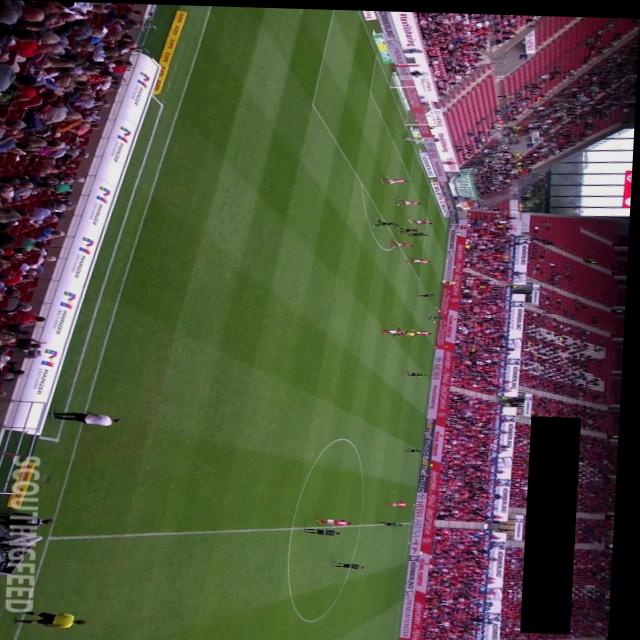goalkeeper: (404, 134, 427, 140)
player: (309, 526, 347, 535), (320, 516, 358, 525), (336, 559, 371, 568), (374, 216, 401, 225), (398, 195, 423, 204), (381, 176, 409, 183), (391, 497, 413, 505), (384, 326, 412, 332), (407, 255, 434, 261), (392, 238, 415, 245), (385, 519, 410, 525), (408, 229, 430, 235), (399, 225, 421, 231), (434, 304, 452, 311), (410, 217, 435, 222), (407, 369, 431, 374), (428, 312, 448, 318), (409, 445, 427, 451), (413, 328, 435, 332), (420, 291, 439, 295)
referee: (20, 610, 93, 629), (395, 323, 421, 336), (442, 278, 461, 282)
